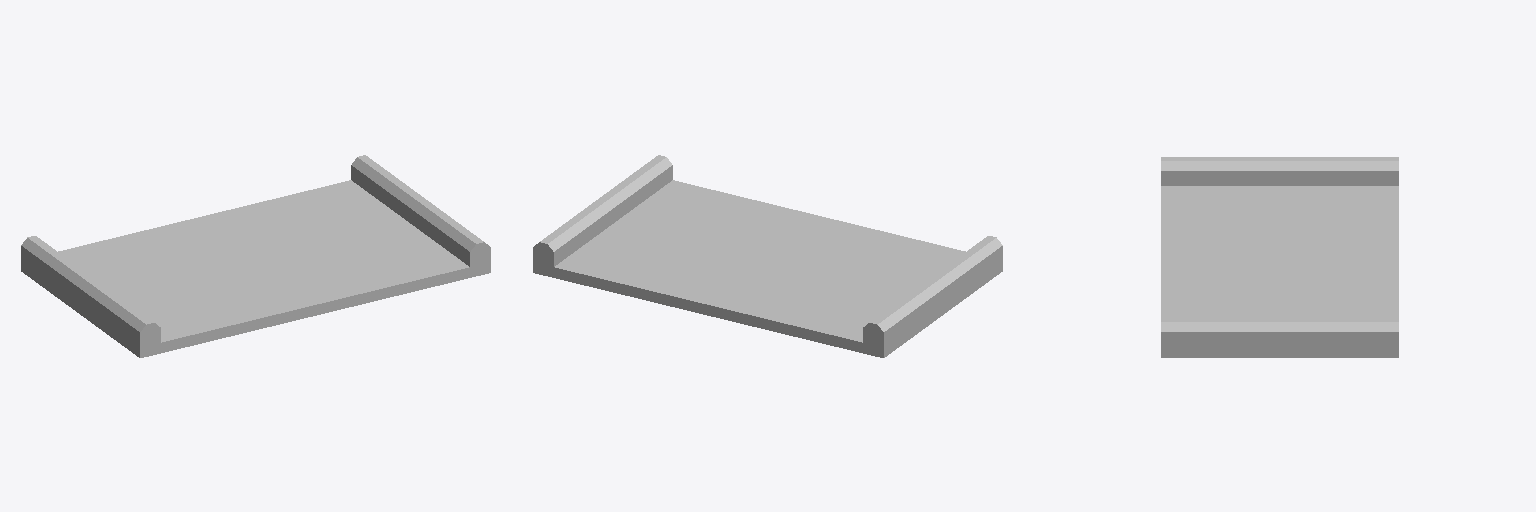
File: runoff_default.obj
3 views of the same model, side by side, from view 1: azimuth 30°, elevation 25°; view 2: azimuth 150°, elevation 25°; view 3: azimuth 270°, elevation 25° (orthographic).
Visible parts, largest first — view 1: object1, object3, object4, object2; view 2: object1, object3, object4, object2; view 3: object1, object3, object2, object4.
Boxes of the visible parts, x1,y1,x2,y2 form: object1: [145, 180, 469, 327]; object3: [58, 230, 263, 352]; object4: [21, 236, 160, 357]; object2: [351, 155, 490, 277]; object1: [554, 180, 878, 327]; object3: [760, 230, 965, 352]; object4: [863, 236, 1002, 357]; object2: [533, 155, 672, 277]; object1: [1161, 236, 1398, 317]; object3: [1161, 186, 1398, 235]; object2: [1161, 318, 1398, 357]; object4: [1161, 157, 1398, 185].
Size of the model in its own units: 1.7 by 0.15 by 1.